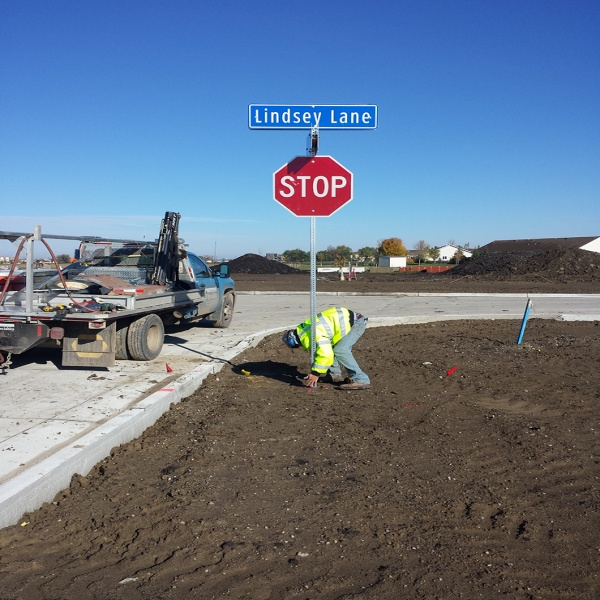stop: (274, 153, 351, 218)
